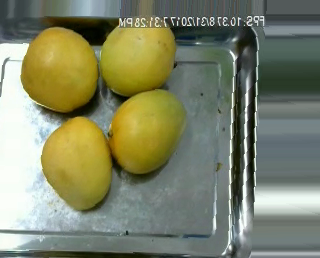Mango: (104, 88, 191, 179), (18, 23, 98, 113), (38, 115, 113, 209), (100, 18, 180, 97)
